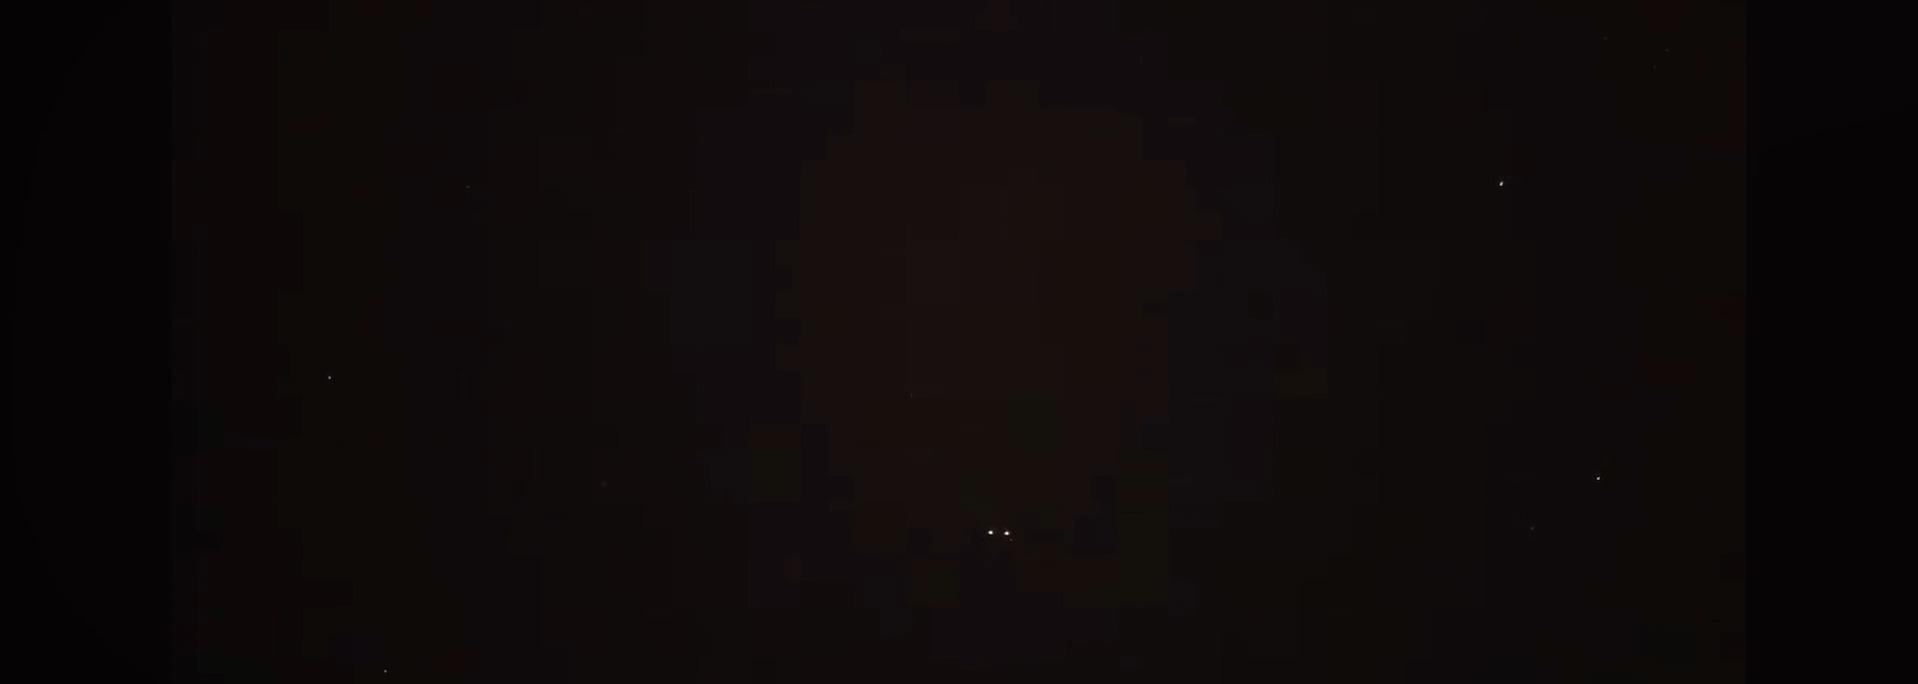Plane: (971, 526, 1030, 538)
